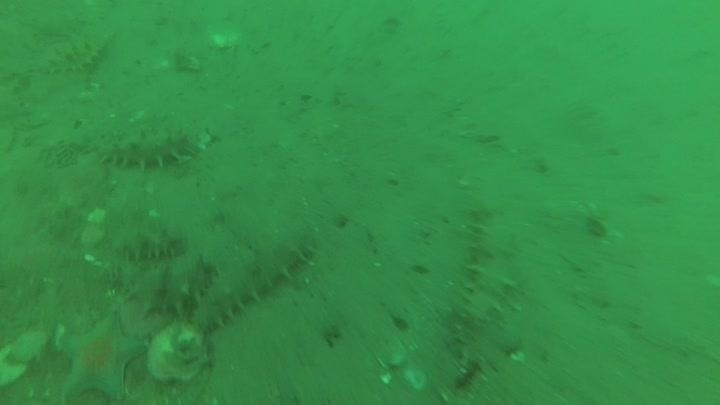holothurian: (189, 228, 318, 334), (458, 202, 520, 324), (113, 251, 220, 318), (96, 123, 209, 173), (110, 223, 189, 264), (40, 33, 110, 78)
scallop: (149, 322, 217, 388)
starfish: (54, 308, 148, 404)
